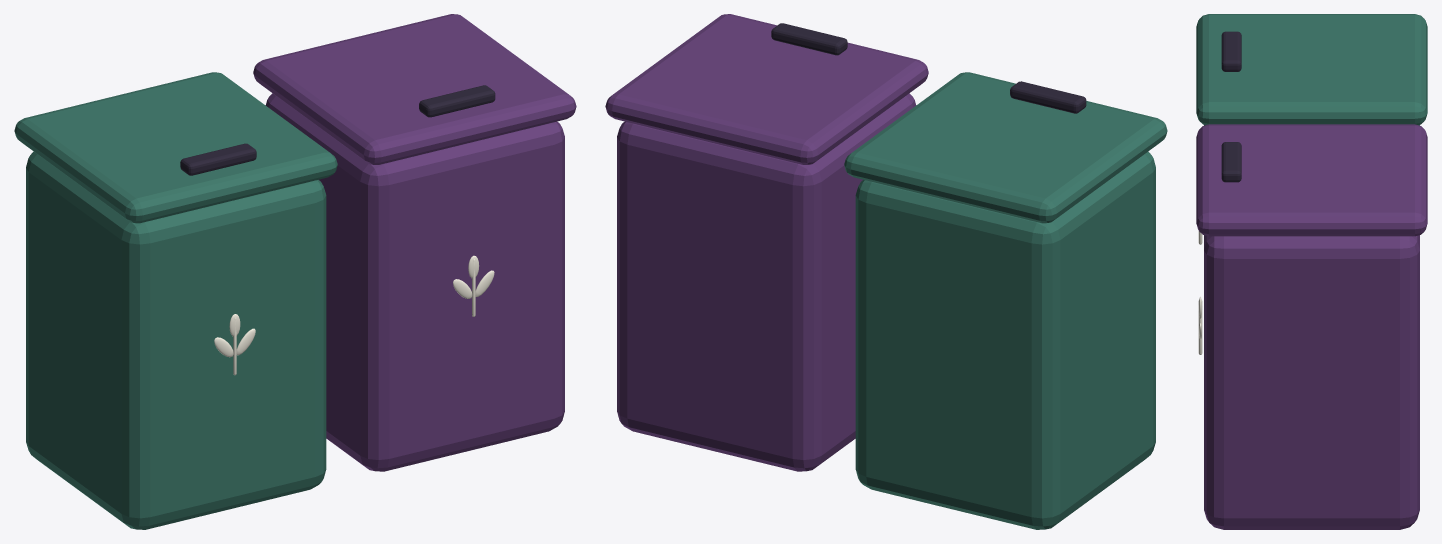
The model's file is sorting_bins.glb.
The picture shows the model from 3 angles, left to right: view 1: azimuth 30°, elevation 25°; view 2: azimuth 150°, elevation 25°; view 3: azimuth 270°, elevation 25°; orthographic projection. The views are drawn at different scales.
Visible parts, largest first — view 1: Bin_body, Bin_body.001, Lid, Lid.001, Handle, Handle.001; view 2: Bin_body, Bin_body.001, Lid, Lid.001, Handle.001, Handle; view 3: Bin_body.001, Lid.001, Lid, Handle.001, Handle.
Part boxes in pixels (left/top/right/bottom): Bin_body: left=26, top=151, right=326, bottom=529; Bin_body.001: left=265, top=93, right=564, bottom=471; Lid: left=14, top=72, right=337, bottom=223; Lid.001: left=253, top=14, right=576, bottom=164; Handle: left=180, top=143, right=256, bottom=175; Handle.001: left=419, top=85, right=495, bottom=117; Bin_body: left=855, top=151, right=1155, bottom=529; Bin_body.001: left=617, top=93, right=916, bottom=471; Lid: left=844, top=72, right=1167, bottom=223; Lid.001: left=605, top=14, right=928, bottom=164; Handle.001: left=771, top=23, right=847, bottom=55; Handle: left=1010, top=81, right=1086, bottom=113; Bin_body.001: left=1204, top=235, right=1419, bottom=529; Lid.001: left=1196, top=124, right=1427, bottom=236; Lid: left=1196, top=14, right=1427, bottom=124; Handle.001: left=1221, top=142, right=1241, bottom=182; Handle: left=1221, top=31, right=1241, bottom=71.
Bounding box in the file's own units: 0.98 × 0.7325 × 0.46.
